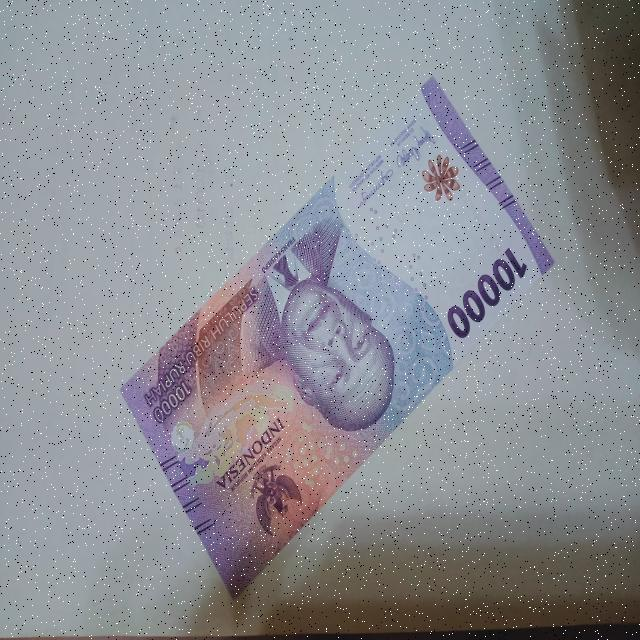10K: (108, 65, 557, 622)
